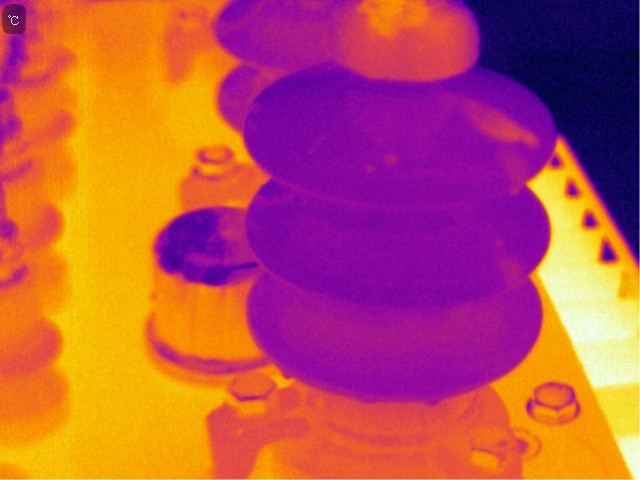Oil: (329, 1, 478, 80), (459, 96, 546, 150), (487, 231, 527, 295), (496, 153, 529, 198), (256, 192, 297, 210), (357, 391, 380, 406), (279, 362, 296, 381), (381, 150, 399, 167), (423, 393, 444, 407), (363, 162, 379, 176)
